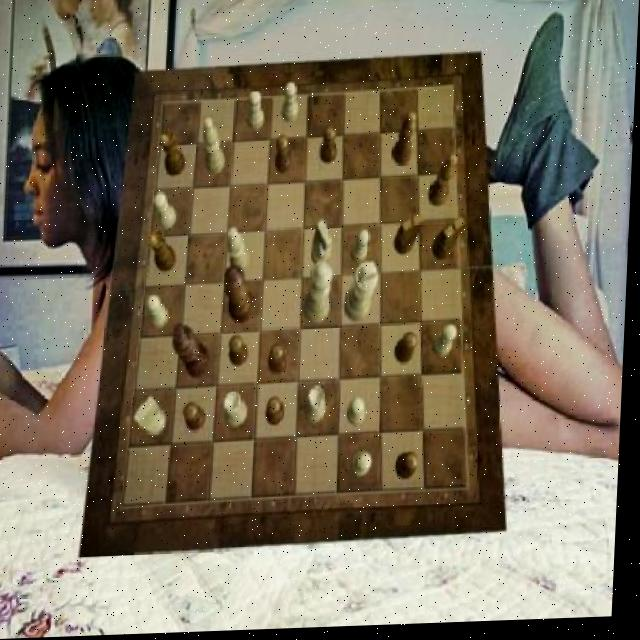bishop: (429, 157, 459, 211), (392, 114, 417, 169)
black-bishop: (175, 324, 216, 382)
black-king: (434, 220, 466, 263), (395, 218, 425, 259)
black-knight: (397, 335, 420, 367), (398, 456, 422, 485), (185, 405, 209, 434), (230, 337, 251, 370), (320, 129, 338, 167), (275, 138, 293, 176), (270, 347, 289, 378), (268, 400, 287, 428)
black-pawn: (224, 266, 258, 325)
black-queen: (159, 131, 188, 178), (151, 230, 180, 273)
black-rook: (203, 118, 228, 176), (227, 230, 252, 278)
white-bishop: (346, 266, 381, 327)
white-king: (136, 398, 170, 439), (314, 222, 336, 269)
white-knight: (155, 193, 179, 232), (435, 328, 461, 362), (148, 296, 171, 332), (281, 85, 300, 127), (248, 92, 266, 133), (353, 232, 373, 266), (354, 453, 376, 479), (350, 400, 370, 428)
white-pawn: (306, 264, 335, 327)
white-queen: (227, 394, 252, 430), (308, 389, 331, 427)
